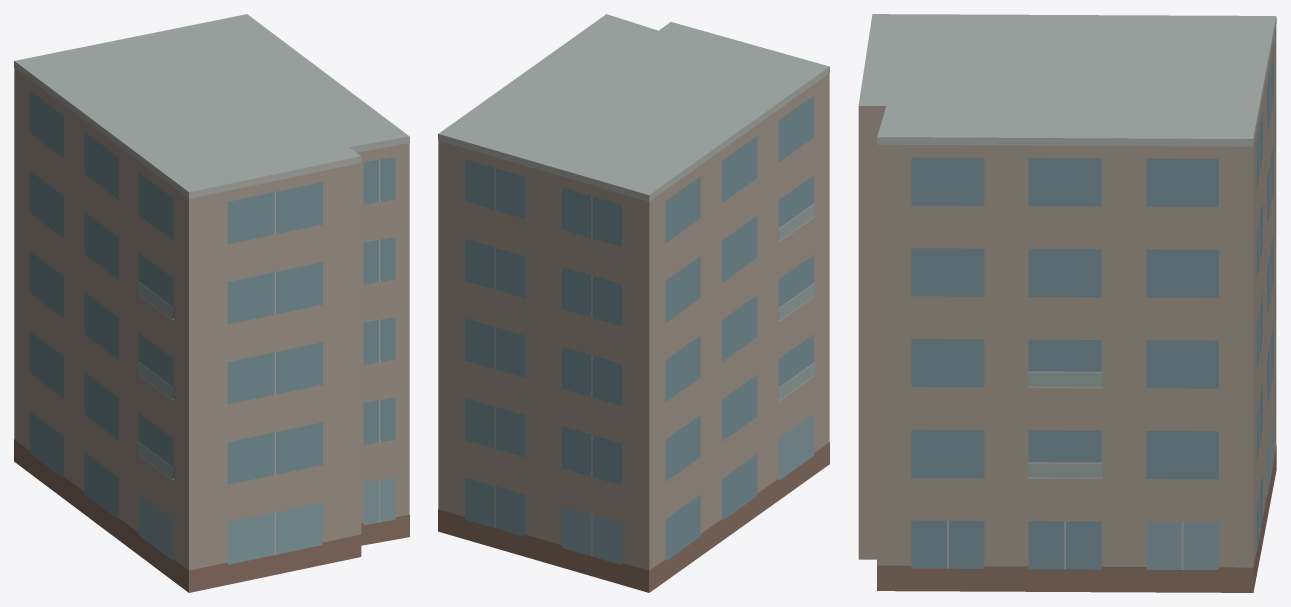
File: survey-upis-33019910.glb
3 views of the same model, side by side, from view 1: azimuth 30°, elevation 25°; view 2: azimuth 150°, elevation 25°; view 3: azimuth 270°, elevation 25° (orthographic). The views are drawn at different scales.
Parts seen in each view (by area): view 1: survey-upis-33019910.tmp; view 2: survey-upis-33019910.tmp; view 3: survey-upis-33019910.tmp.
Boxes of the visible parts, x1,y1,x2,y2 form: survey-upis-33019910.tmp: [14, 14, 409, 592]; survey-upis-33019910.tmp: [438, 14, 829, 592]; survey-upis-33019910.tmp: [858, 14, 1276, 592].
Bounding box in the file's own units: 8.72 × 14.7 × 12.28.
